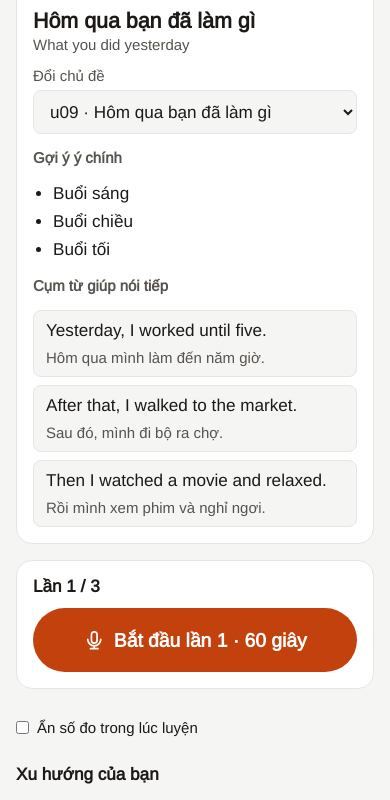
Scenario: FluencyScreen › asks to try the round again when no voice was heard
(page scrolled)
Click the button "Bắt đầu lần 1 · 60 giây": (195, 640) top-left (33, 608), bottom-right (357, 672)
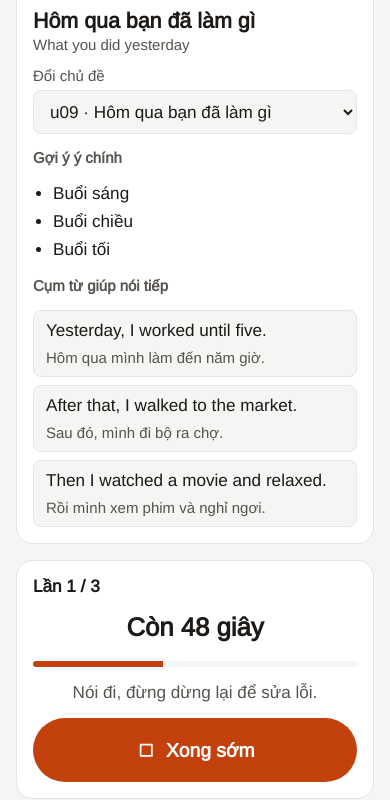
Click the button "Xong sớm": (195, 750) top-left (33, 718), bottom-right (357, 782)
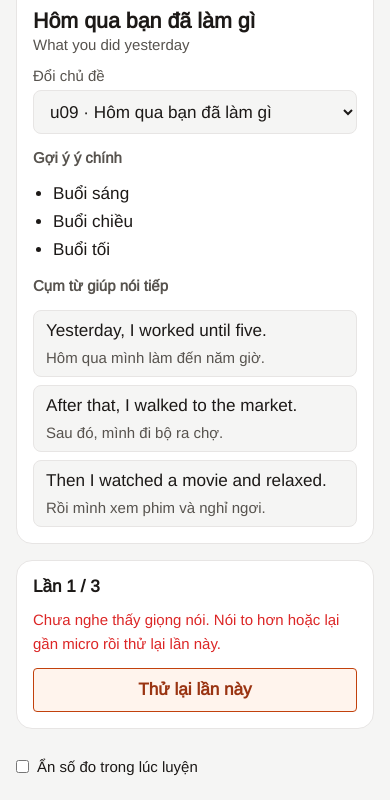
Result: the message shows "Chưa nghe thấy giọng nói" at top-left (33, 611), bottom-right (339, 652)
Click the button "Thử lại lần này": (195, 690) top-left (33, 668), bottom-right (357, 712)
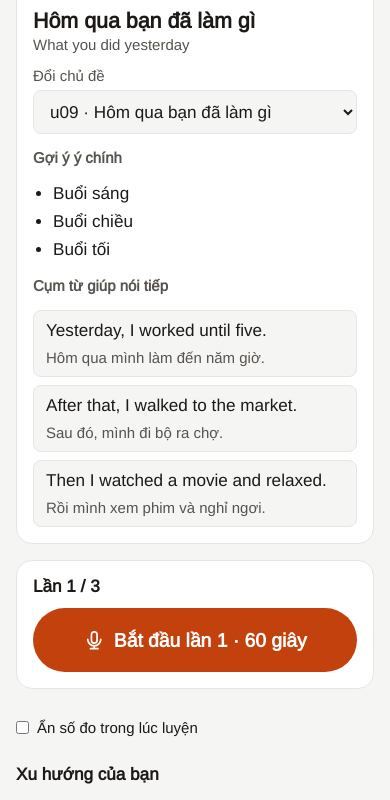
Click the button "Bắt đầu lần 1 · 60 giây": (195, 640) top-left (33, 608), bottom-right (357, 672)
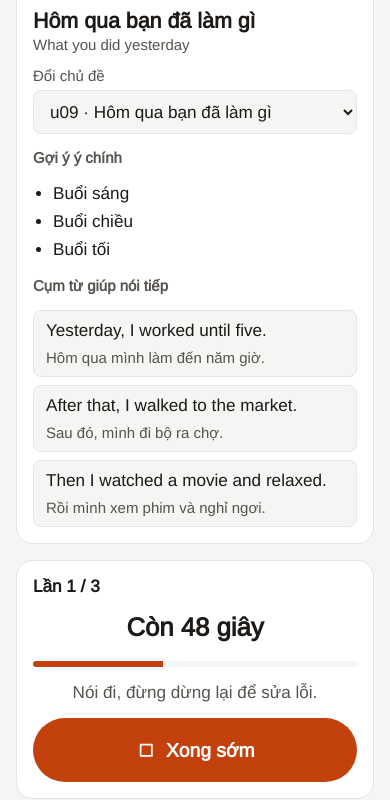
Click the button "Xong sớm": (195, 750) top-left (33, 718), bottom-right (357, 782)
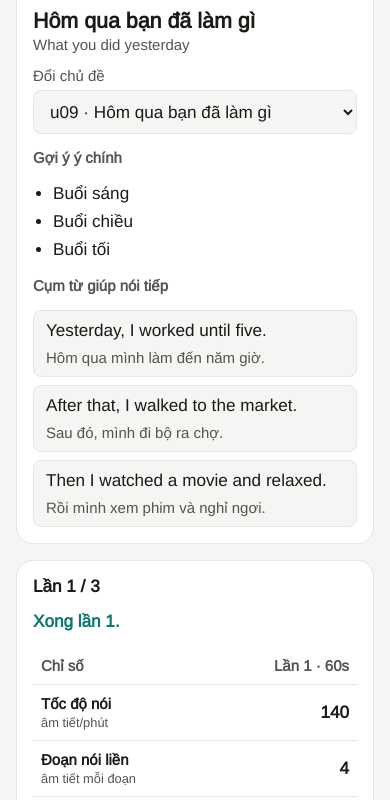
Result: the text "Xong lần 1." is shown at top-left (33, 612), bottom-right (120, 631)
